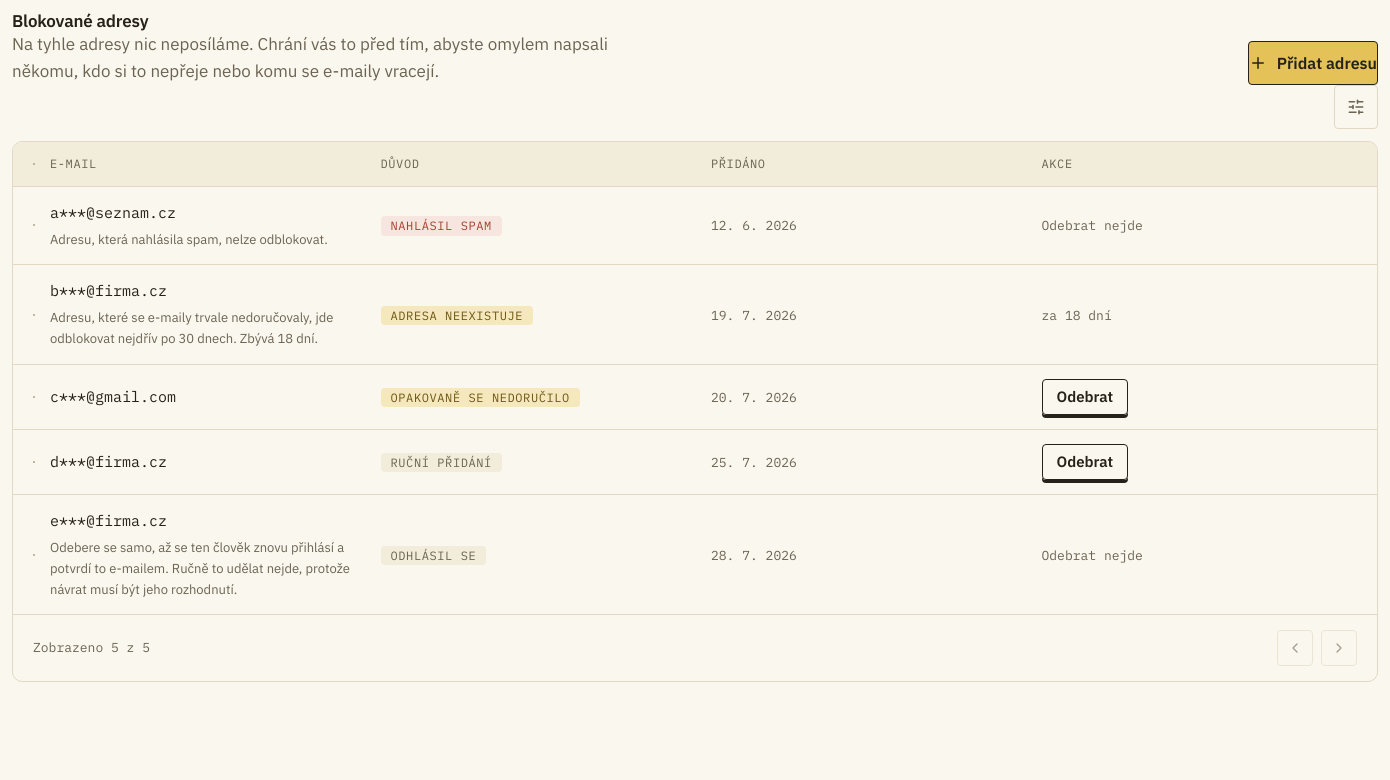
Test case: SuppressionsTable › u smíšeného výběru řekne, kolika adres se akce týká, a pod tím proč ne všech
Click the checkbox named "Vybrat adresu" below "a***@seznam.cz". click: click(34, 226)
box: x1=33 y1=224 x2=35 y2=226
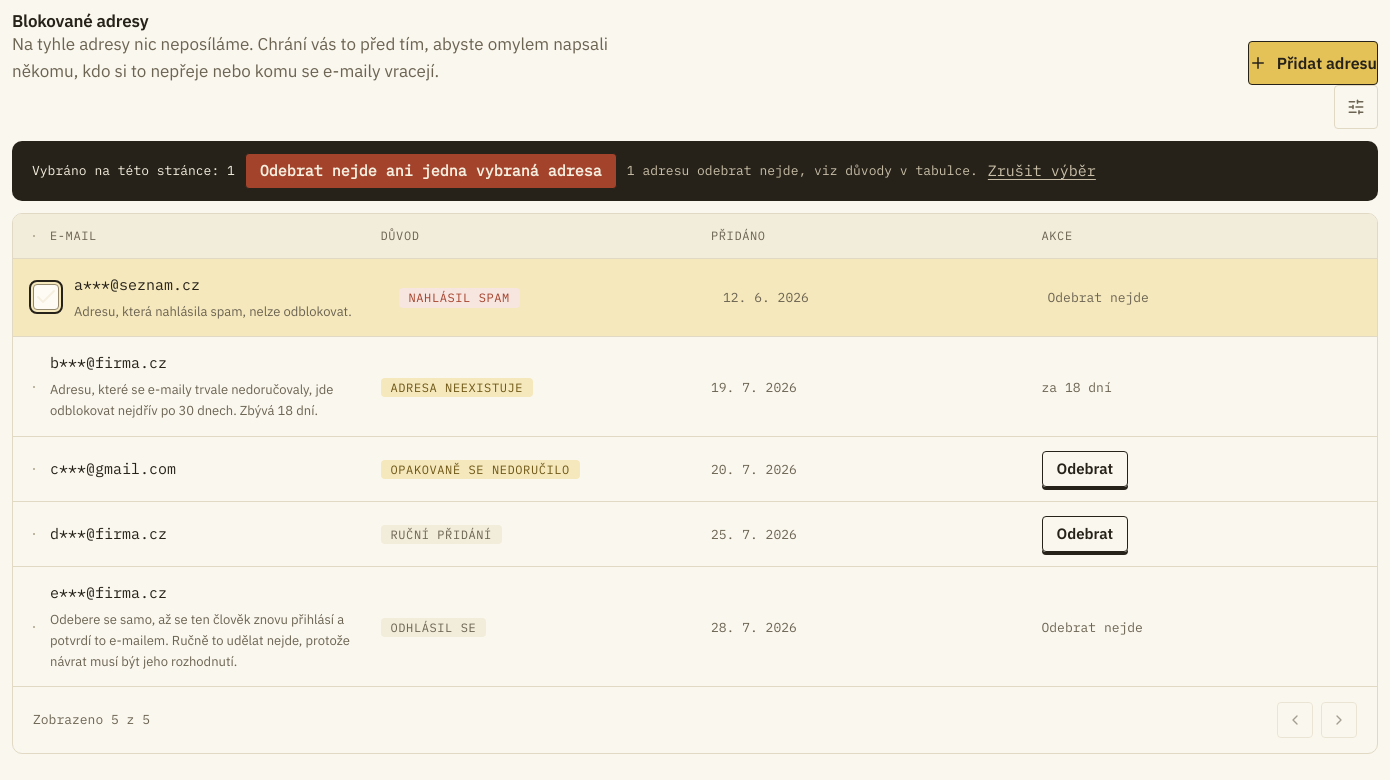
Click the checkbox named "Vybrat adresu" below "b***@firma.cz". click: click(34, 387)
box: x1=33 y1=386 x2=35 y2=388
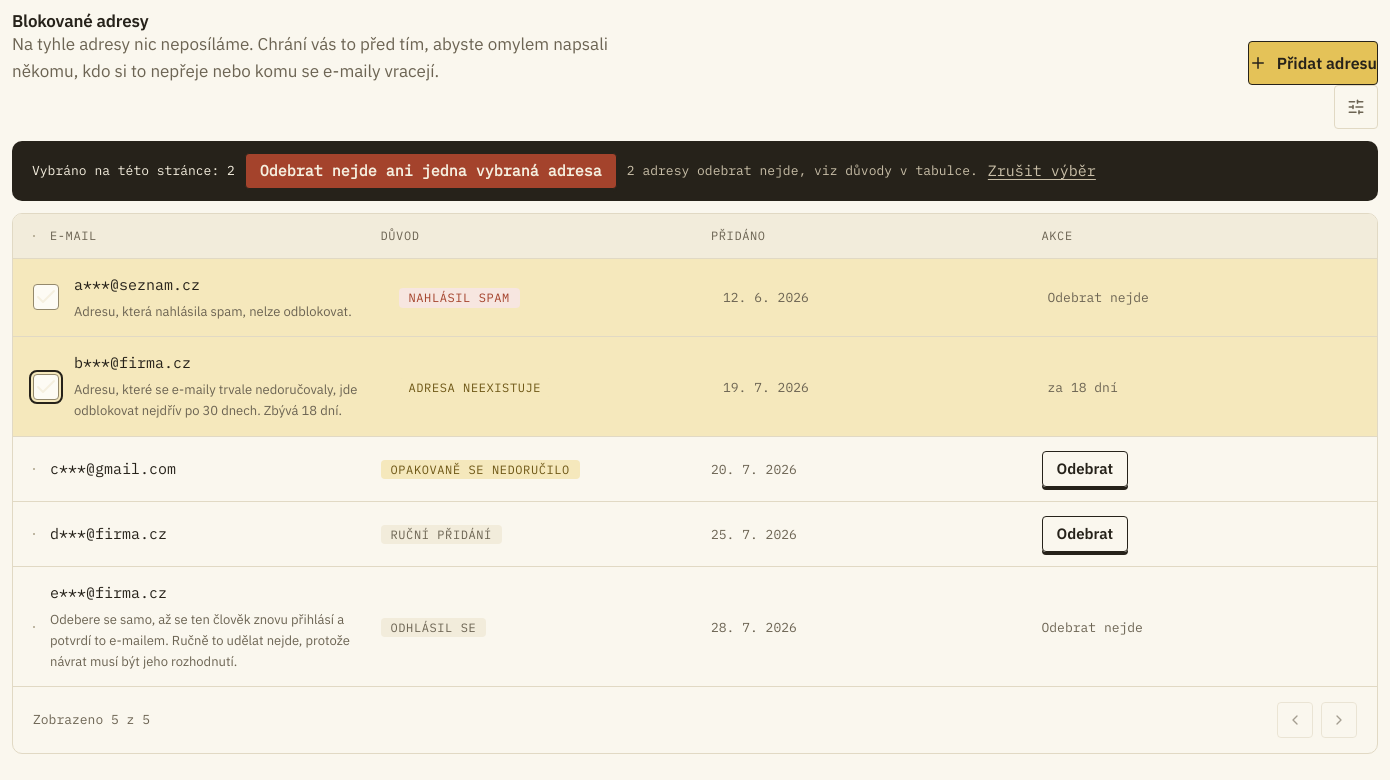
Click the 3rd checkbox named "Vybrat adresu". click: click(34, 469)
box: x1=33 y1=468 x2=35 y2=470
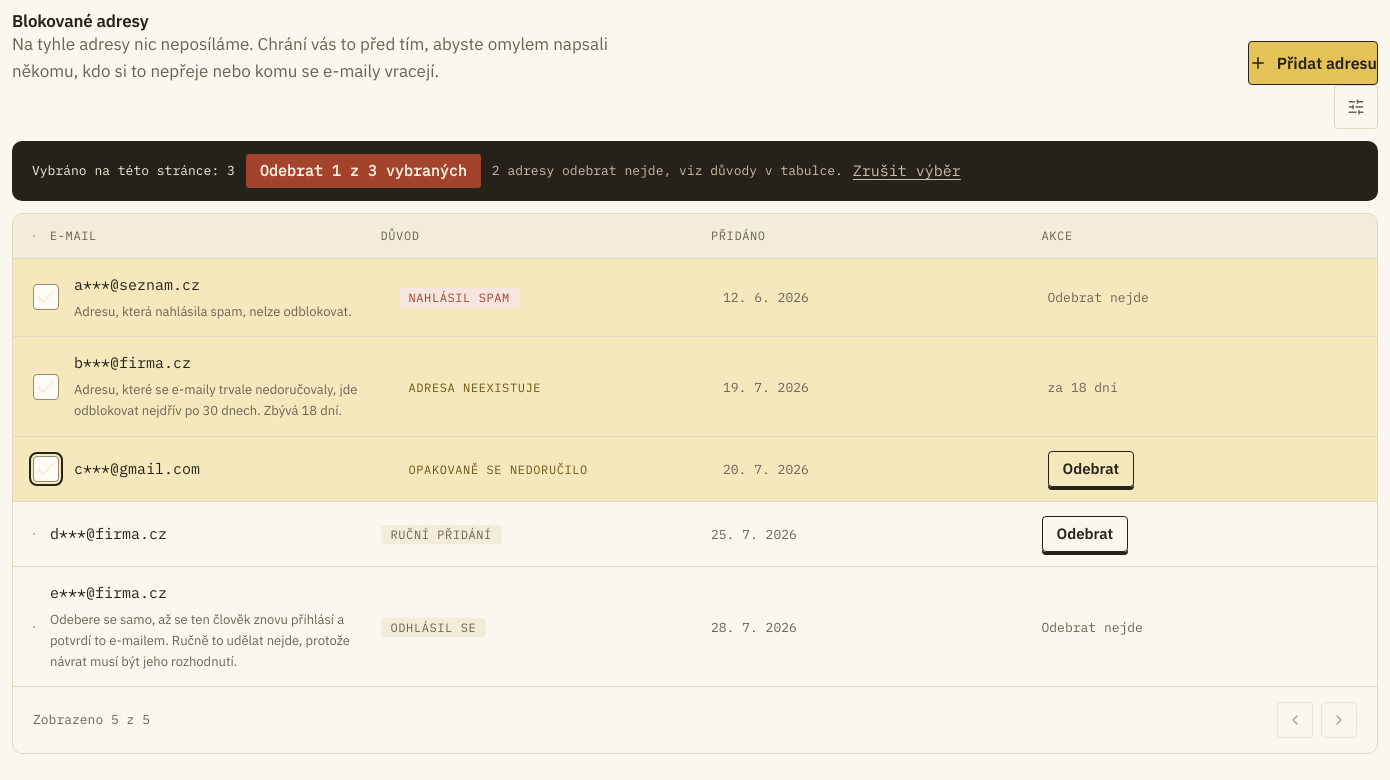
Click the 4th checkbox named "Vybrat adresu". click: click(34, 534)
box: x1=33 y1=533 x2=35 y2=535
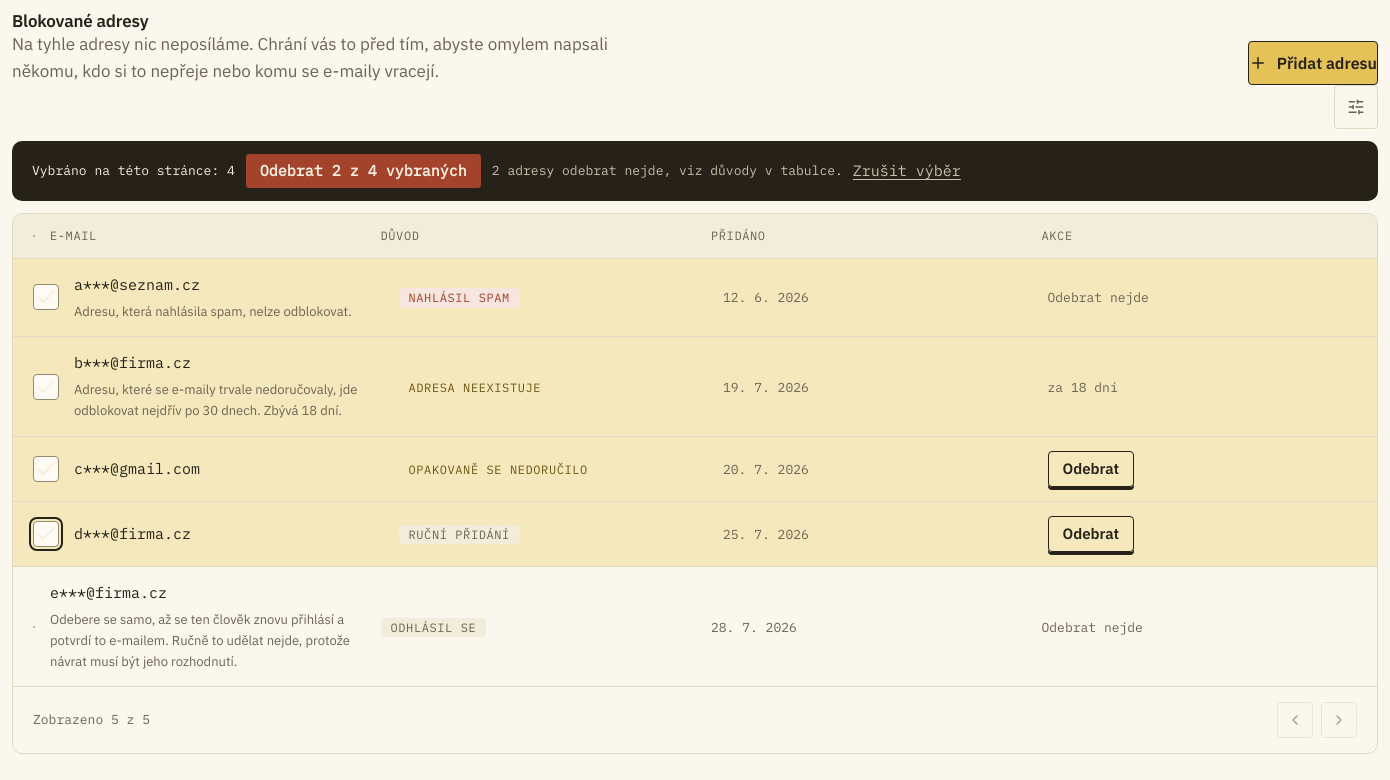
Click the checkbox named "Vybrat adresu" below "e***@firma.cz". click: click(34, 627)
box: x1=33 y1=626 x2=35 y2=628
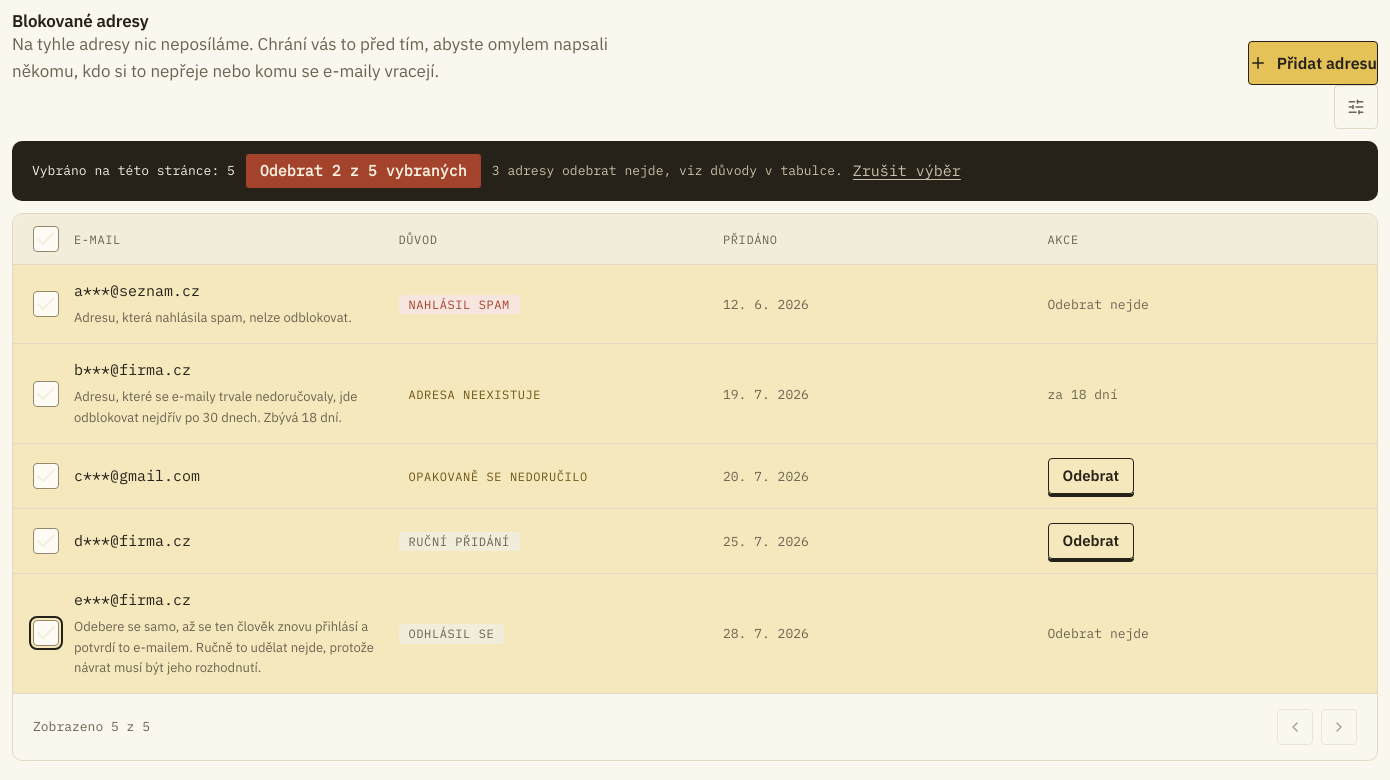
Result: the button "Odebrat 2 z 5 vybraných" is shown at x1=245 y1=153 x2=482 y2=189
Result: the element with test id "suppressions-bulk" shows "3 adresy odebrat nejde, viz důvody v tabulce" at x1=492 y1=162 x2=843 y2=179
